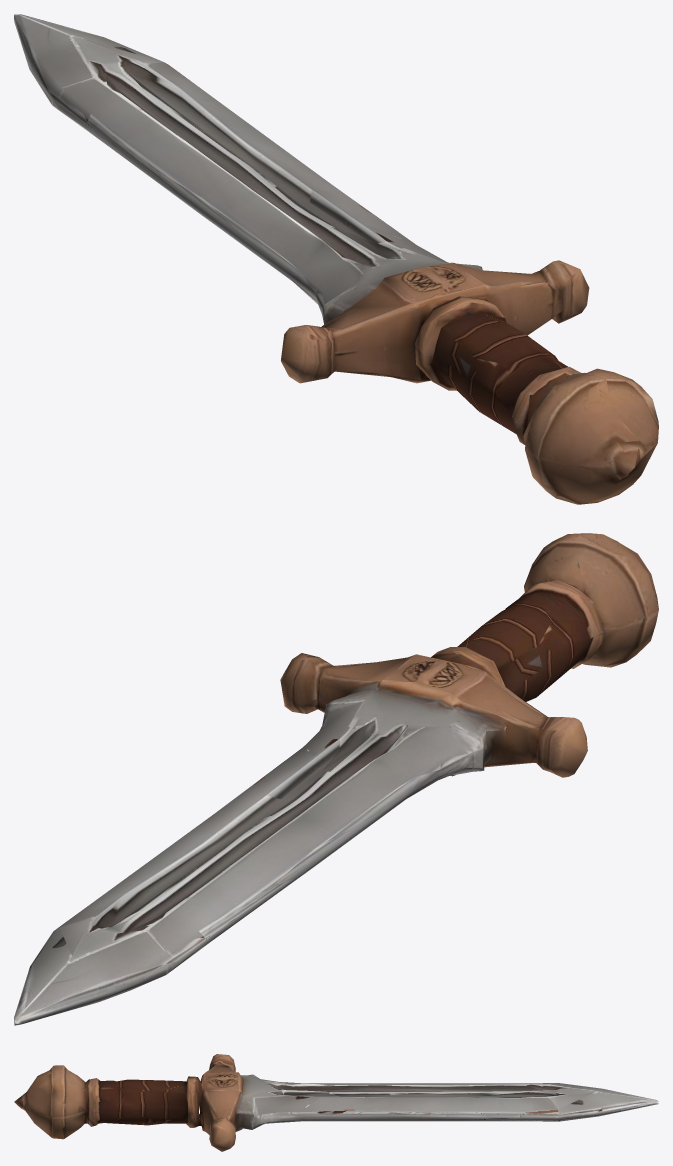
The model's file is gladio_plasma.glb.
The picture shows the model from 3 angles, top to bottom: view 1: azimuth 30°, elevation 25°; view 2: azimuth 150°, elevation 25°; view 3: azimuth 270°, elevation 25°; orthographic projection. The views are drawn at different scales.
Parts seen in each view (by area): view 1: gladio; view 2: gladio; view 3: gladio.
Boxes of the visible parts, x1=… form: gladio: x1=14, y1=14, x2=658, y2=504; gladio: x1=14, y1=533, x2=658, y2=1025; gladio: x1=14, y1=1054, x2=658, y2=1151.
Bounding box in the file's own units: 0.2434 × 0.096 × 0.8497.
1 material, 1 textured.
